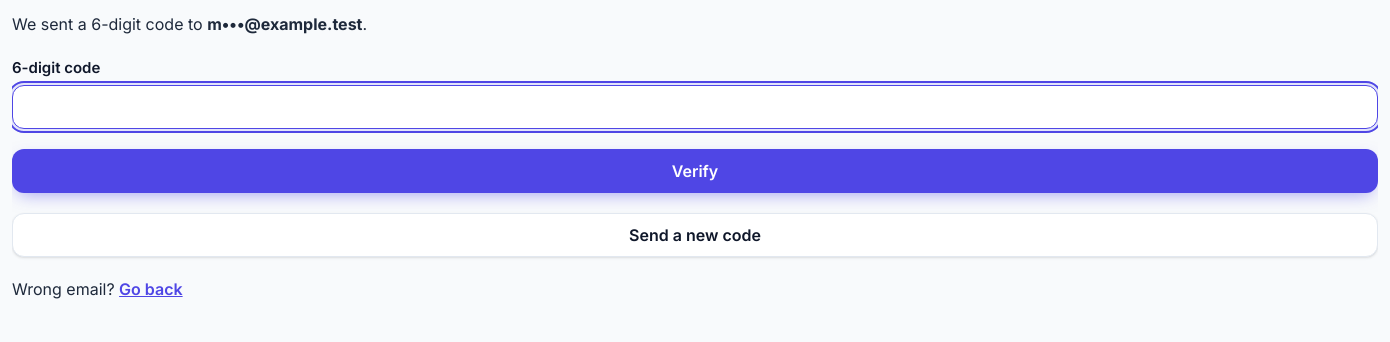
Test: VerifyForm › shows tries left for a wrong code and requires six digits
Type "12" into the field with test id "verify-code-input" at (695, 107), box x1=12 y1=85 x2=1378 y2=129
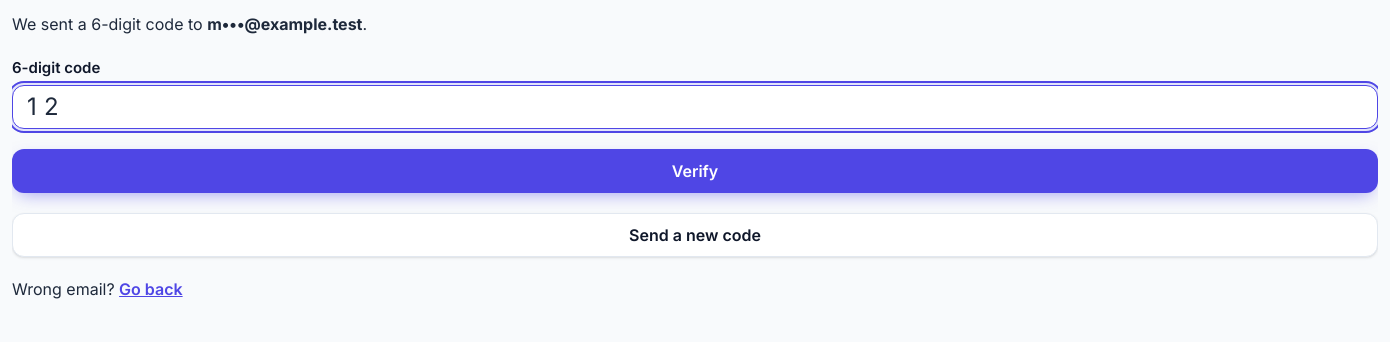
Click the button with test id "verify-submit-button" at (695, 171), box x1=12 y1=149 x2=1378 y2=193
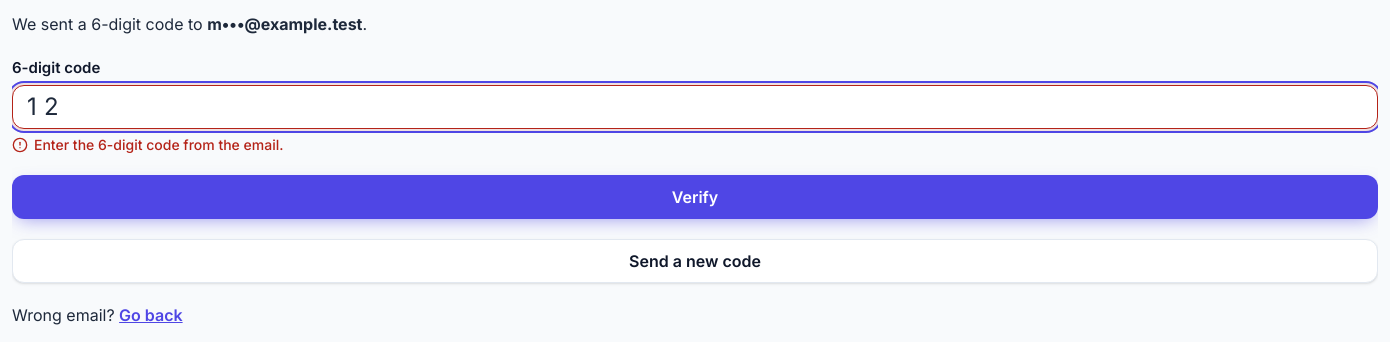
Check: the element with test id "code-error" shows "6-digit code", box x1=34 y1=136 x2=284 y2=153
Type "3456" into the field with test id "verify-code-input" at (695, 107), box x1=12 y1=85 x2=1378 y2=129
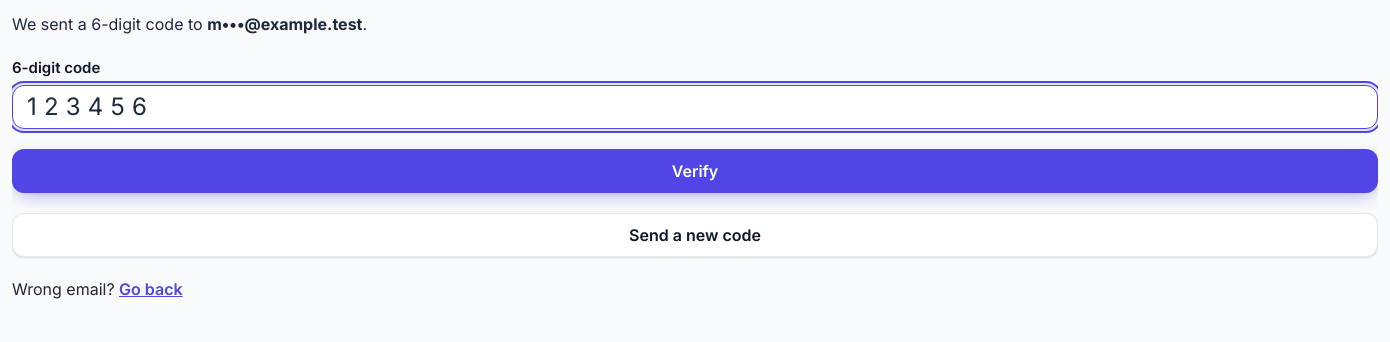
Click the button with test id "verify-submit-button" at (695, 171), box x1=12 y1=149 x2=1378 y2=193
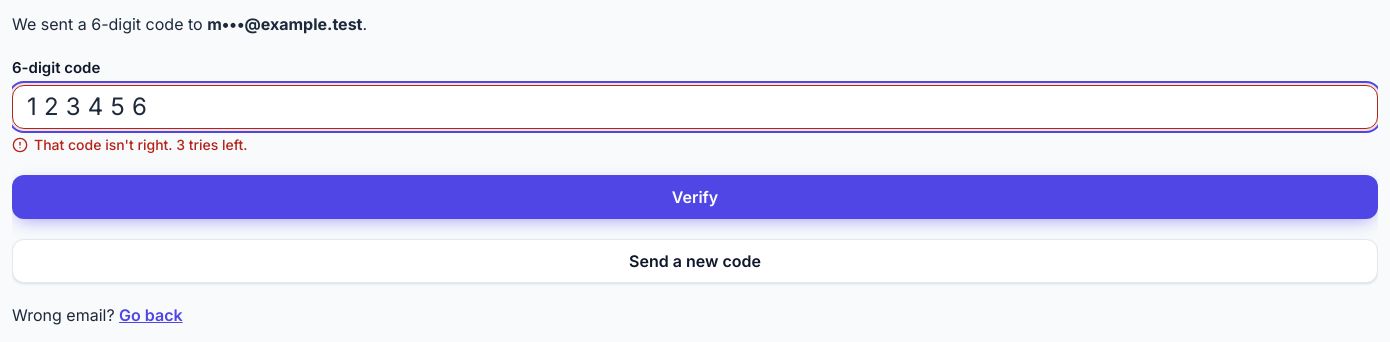
Check: the element with test id "code-error" reads "That code isn't right. 3 tries left.", box x1=34 y1=136 x2=248 y2=153
